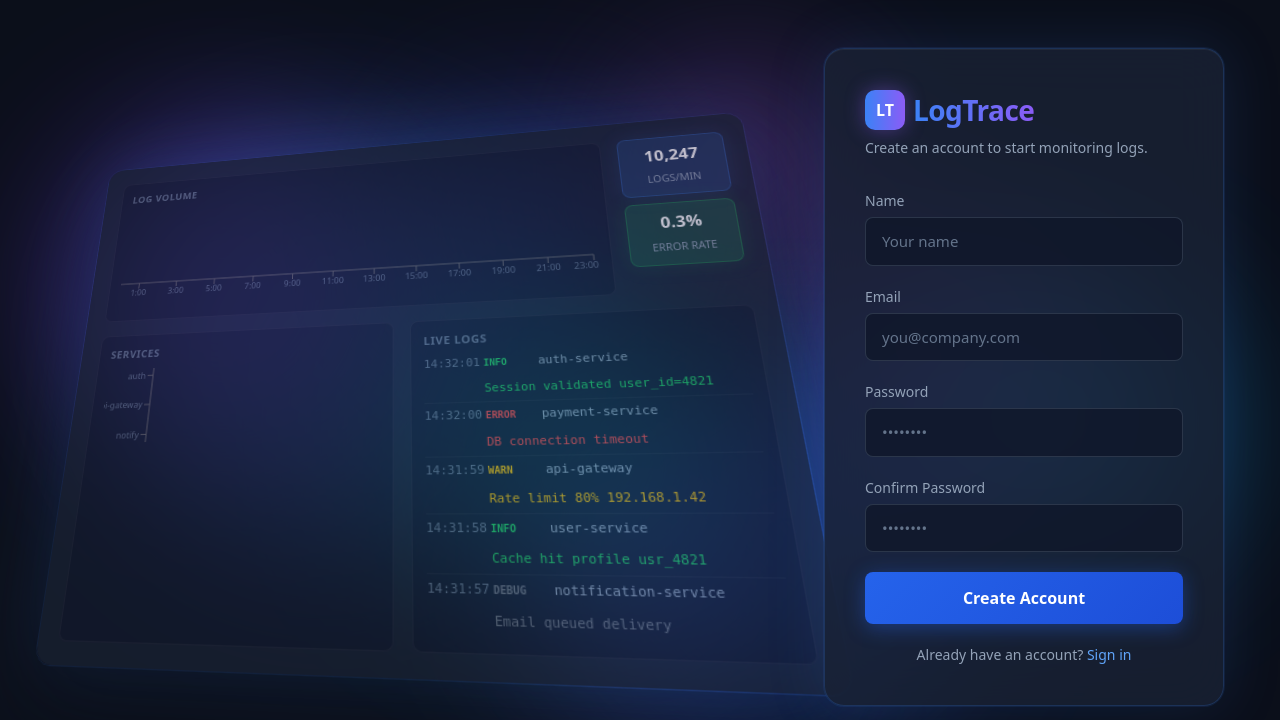
Test case: SignupPage › shows error when name is empty
This screenshot has width=1280, height=720.
Step 1. Type "test@example.com" into the field labelled "Email" → [1024, 337], box [865,312,1183,361]
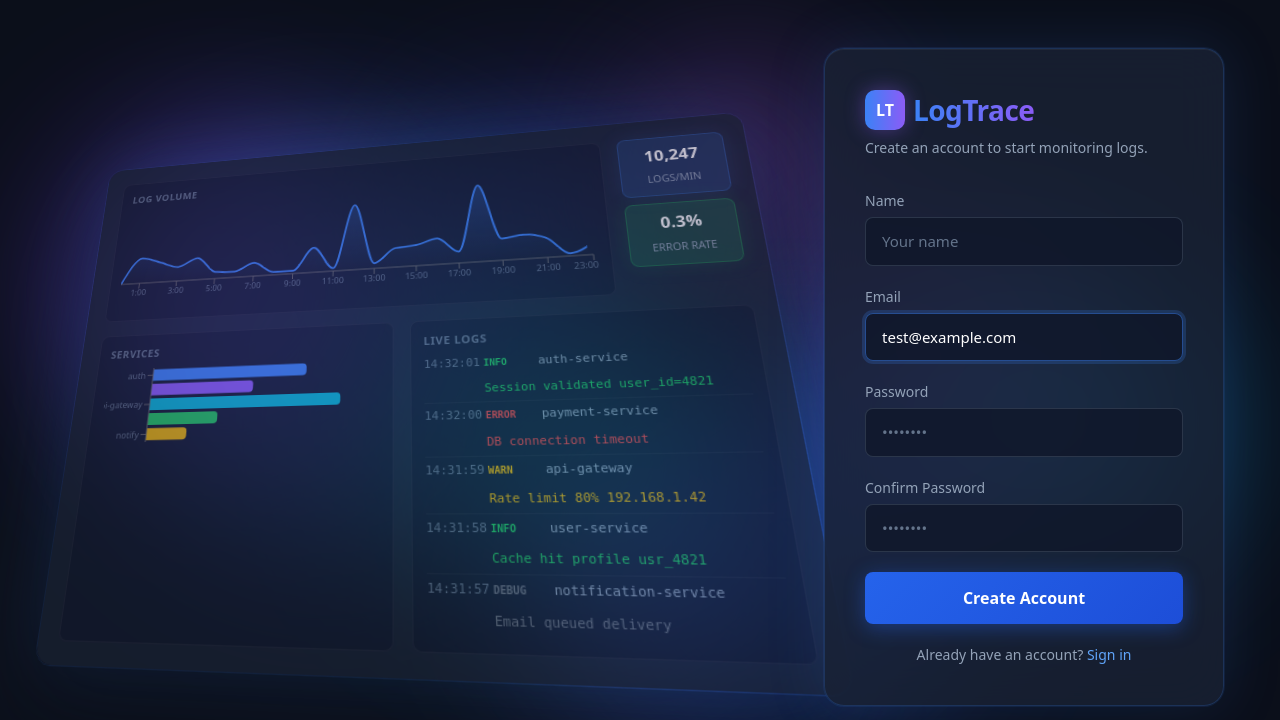
Step 2. Type "password123" into the password field labelled "Password" → [1024, 432], box [865,408,1183,456]
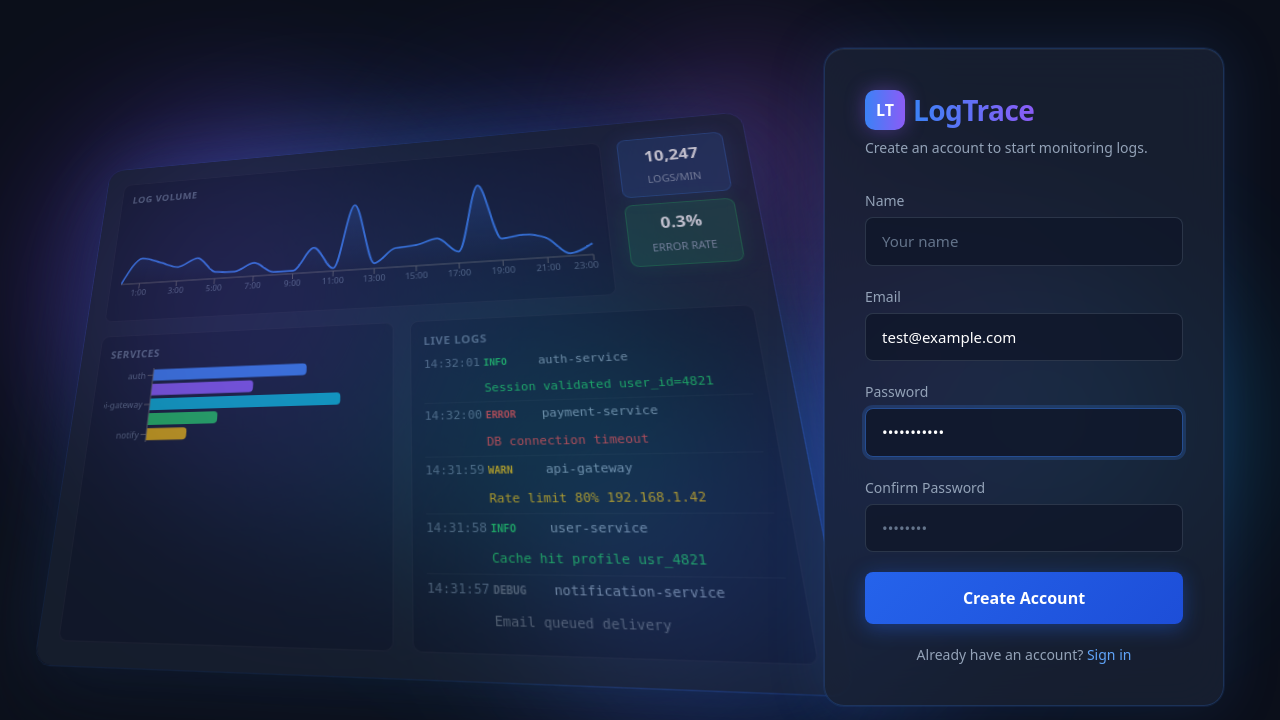
Step 3. Type "password123" into the password field labelled "Confirm Password" → [1024, 528], box [865,504,1183,552]
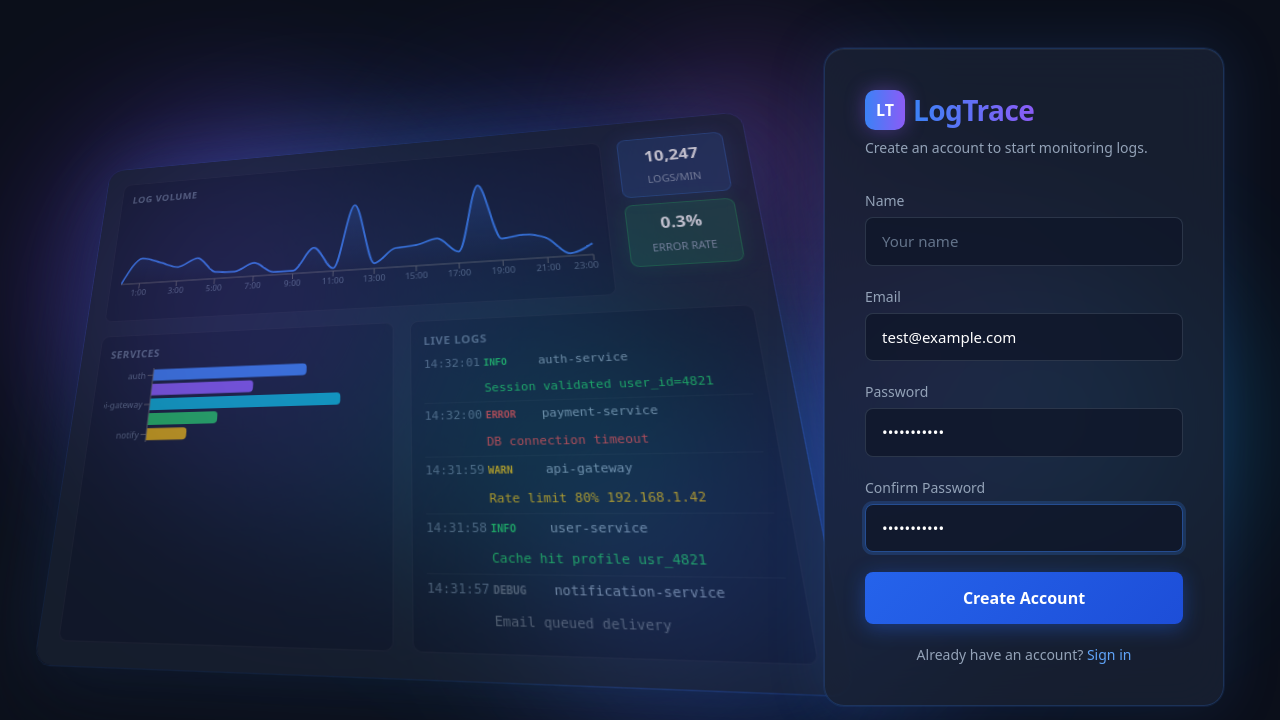
Step 4. Click the button "Create Account" → [1024, 598], box [865,572,1183,624]
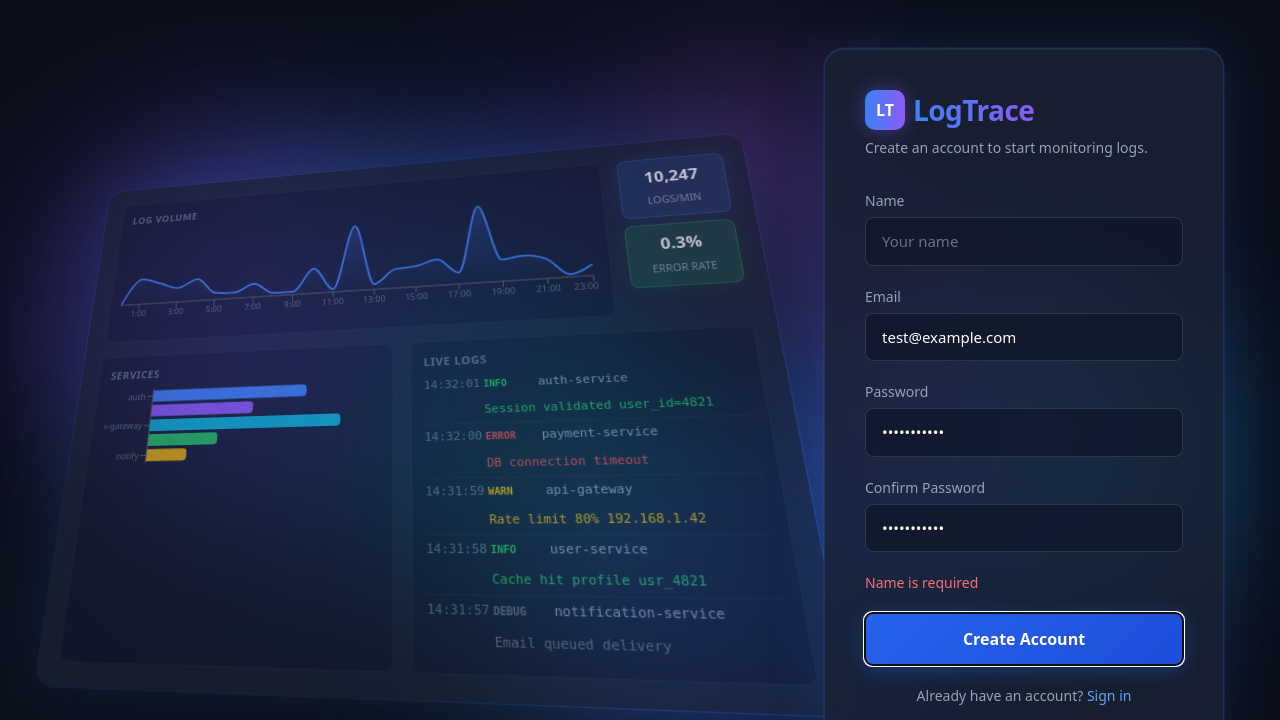
Result: the text "Name is required" is shown at [865,573,978,592]
